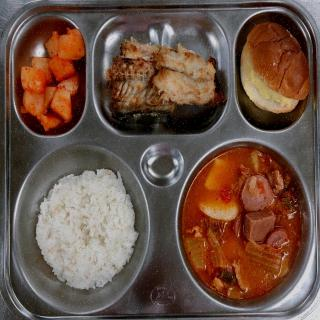Nasi: (38, 175, 138, 291)
